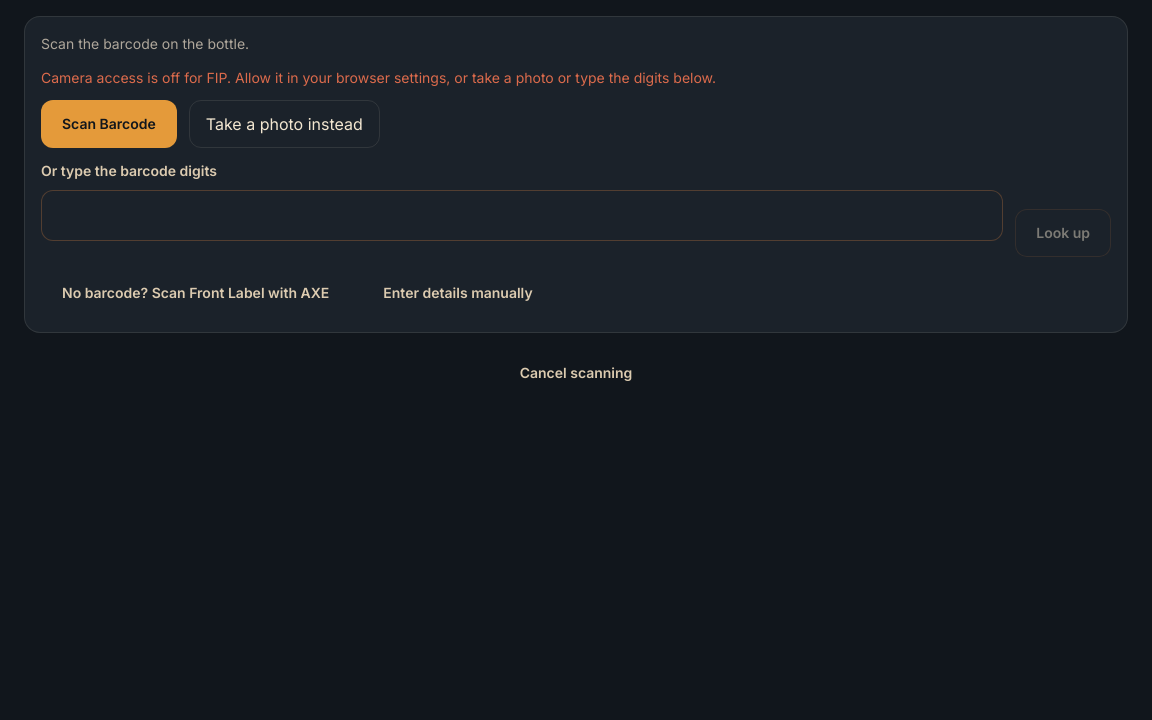
Test: ScanBarcodeFlow › explains a blocked camera and still offers typing the digits
Expected: the message shows "Camera access is off for FIP", [41, 69, 716, 86]
Type "036000291452" into the field labelled "Or type the barcode digits" at (522, 215), box [41, 190, 1003, 241]
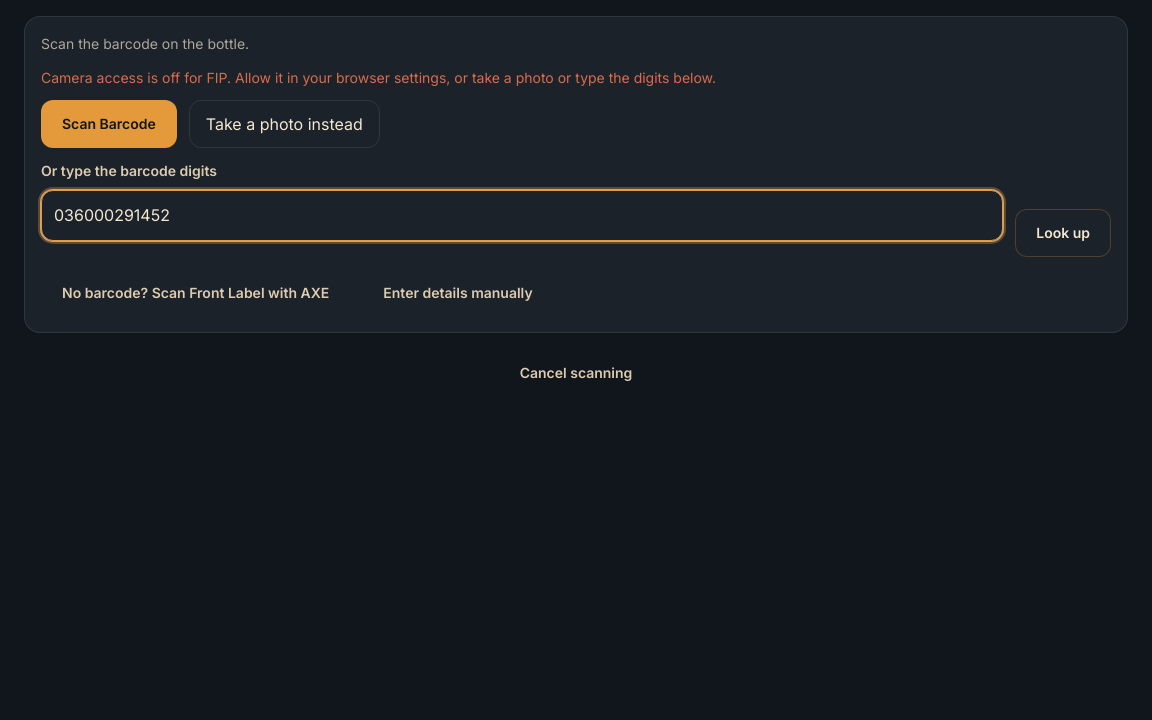
Click the button "Look up" at (1063, 233), box [1015, 209, 1111, 257]
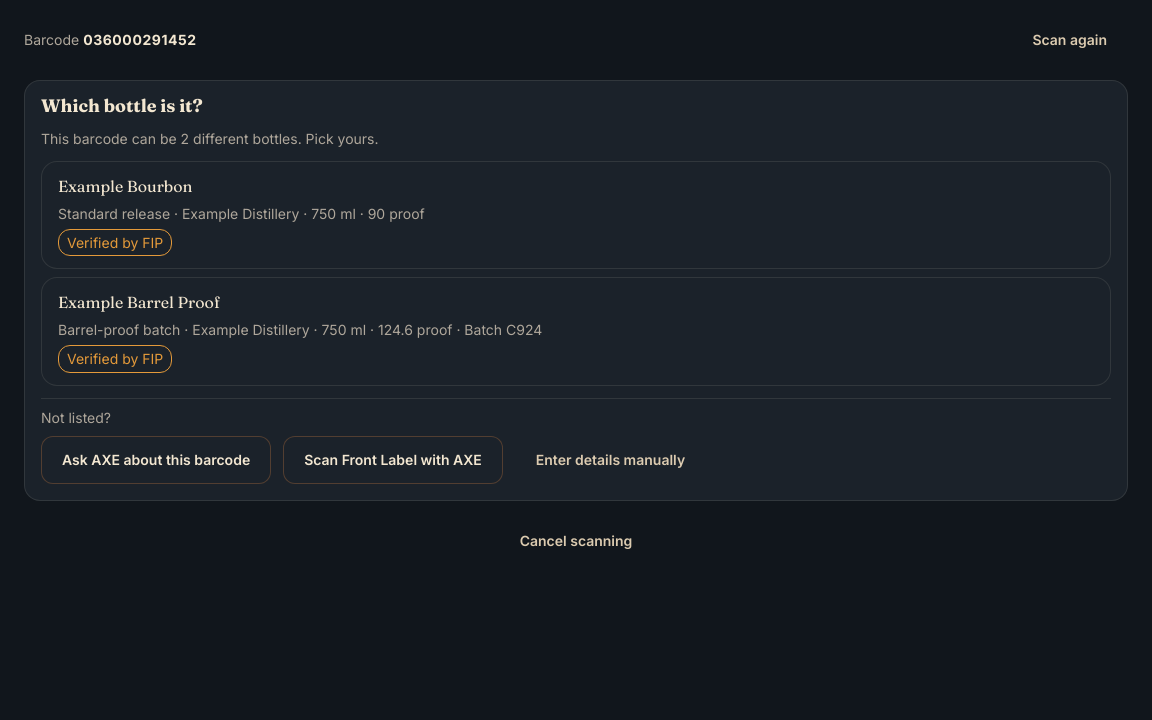
Result: the text "This barcode can be 2 different bottles. Pick yours." is shown at [41, 130, 378, 147]
